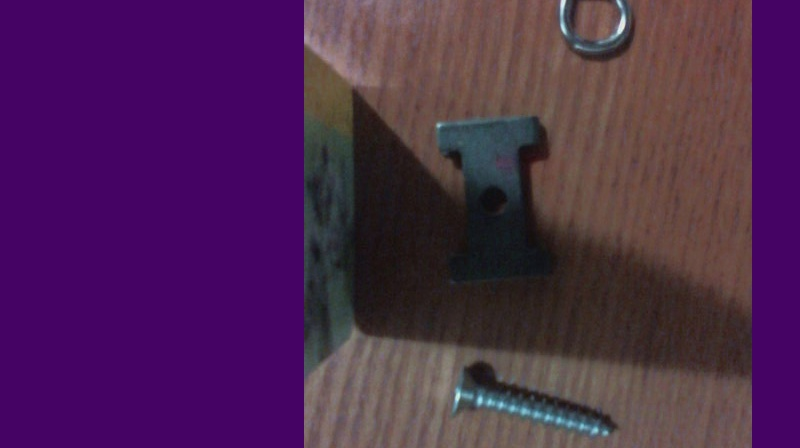O001: (504, 0, 632, 62)
O002: (431, 112, 557, 285)
S001: (440, 356, 623, 442)
